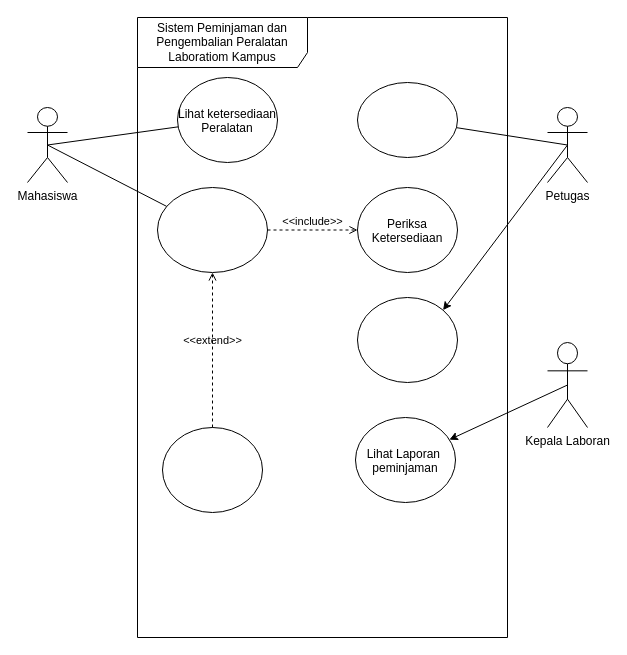
The diagram is 627 pixels wide and 655 high, and some of its shapes have lost their labels. The centre of each missing label's shape, as x and y in pixels:
Ajukan Peminjaman: point (212, 229)
Cetak bukti Pengajuan: point (212, 469)
Kelola Data peralatan: point (407, 120)
Proses Keputusan Peminjaman: point (407, 339)
